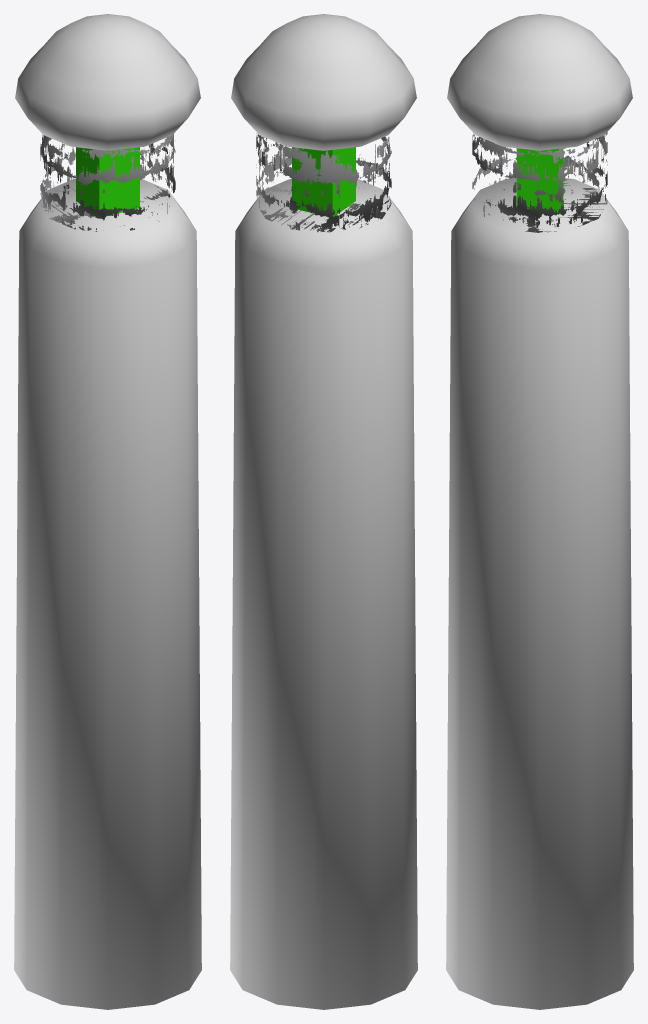
Rendered from sidewalkLamp1V1blend.fbx.
3 views of the same model, side by side, from view 1: azimuth 30°, elevation 25°; view 2: azimuth 150°, elevation 25°; view 3: azimuth 270°, elevation 25° (orthographic).
Visible parts, largest first — view 1: Base, Top, Glass, Lamp; view 2: Base, Top, Glass, Lamp; view 3: Base, Top, Glass, Lamp.
Boxes of the visible parts, x1=… form: Base: x1=14, y1=179, x2=201, y2=1009; Top: x1=15, y1=14, x2=200, y2=150; Glass: x1=40, y1=134, x2=175, y2=231; Lamp: x1=76, y1=147, x2=139, y2=217; Base: x1=230, y1=179, x2=417, y2=1009; Top: x1=231, y1=14, x2=416, y2=150; Glass: x1=256, y1=133, x2=391, y2=232; Lamp: x1=292, y1=147, x2=355, y2=216; Base: x1=446, y1=178, x2=633, y2=1009; Top: x1=447, y1=14, x2=632, y2=150; Glass: x1=472, y1=132, x2=607, y2=232; Lamp: x1=516, y1=148, x2=563, y2=214.
Bounding box in the file's own units: 20 × 112 × 20.
3 materials, 1 textured.
